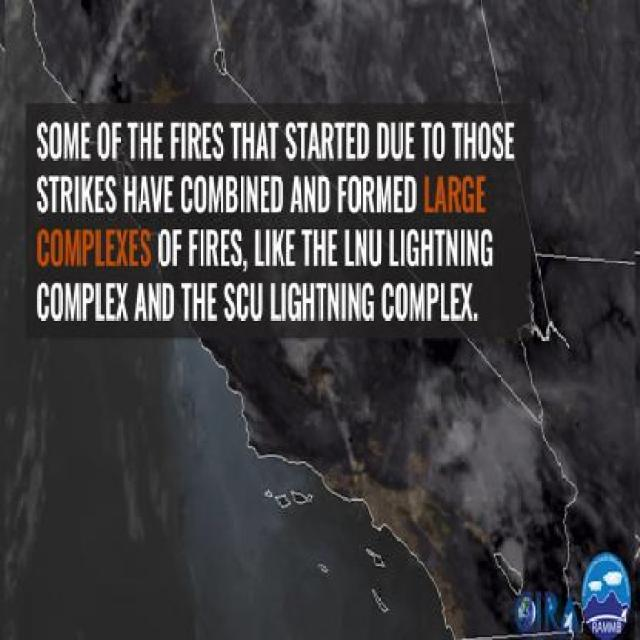Smoke: (392, 323, 620, 560), (46, 21, 56, 35)
